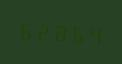eight: (52, 19, 68, 44)
four: (86, 21, 102, 46)
six: (18, 17, 34, 42), (69, 20, 85, 45)
two: (35, 18, 51, 43)
